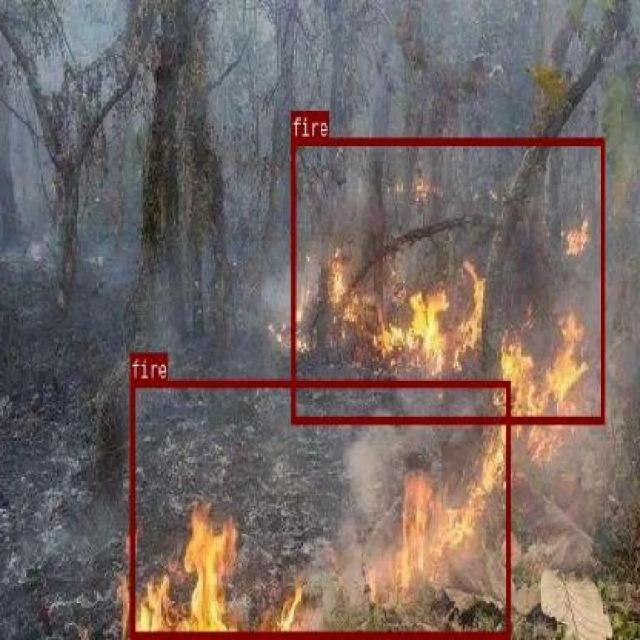Fire: (312, 203, 600, 438), (127, 450, 498, 628)
Smoke: (0, 0, 622, 617)
